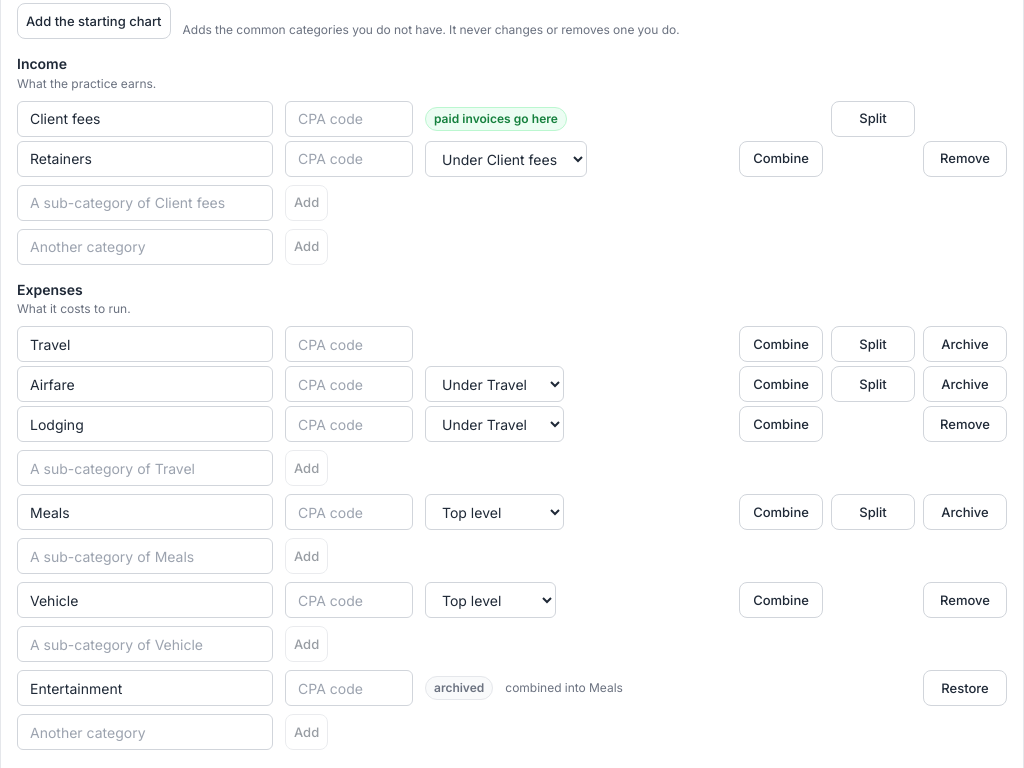
Scenario: categories in two levels › a split from a sub-category makes the new one beside it, or uses one you have
The width and height of the screenshot is (1024, 768).
(page scrolled)
Click the button with aria-label "Split Airfare".
click(873, 384)  # box [831,366,915,402]
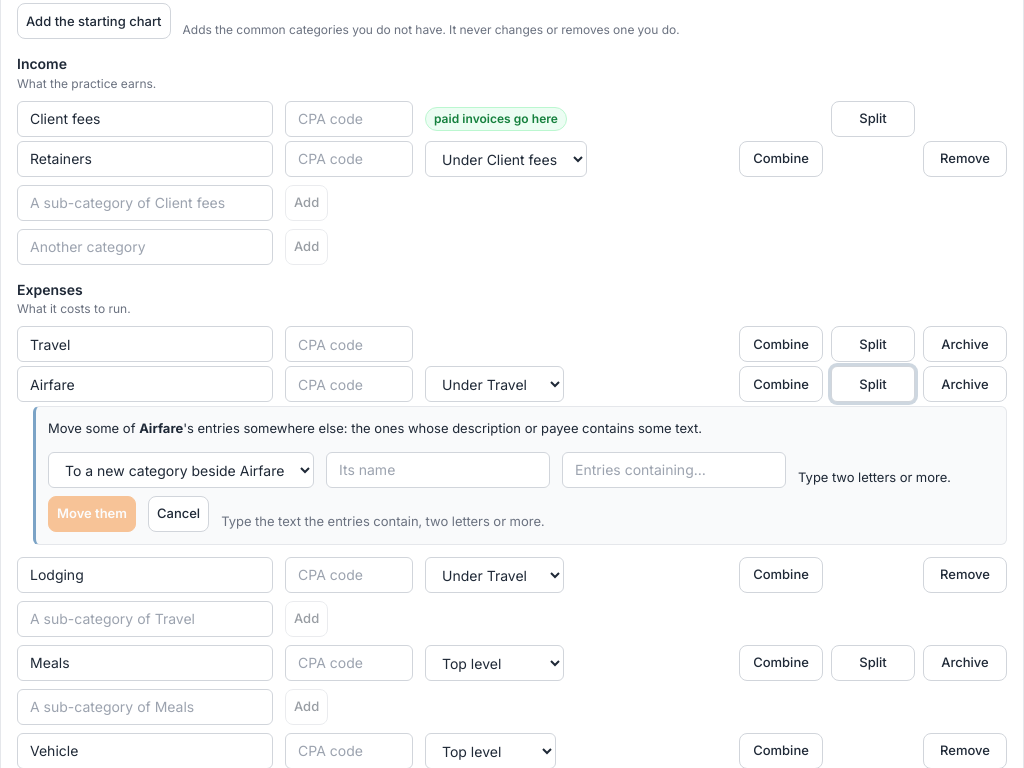
Select "To a category you already have" in the dropdown named "Where the entries go" at (181, 470), box [48,452,314,488]
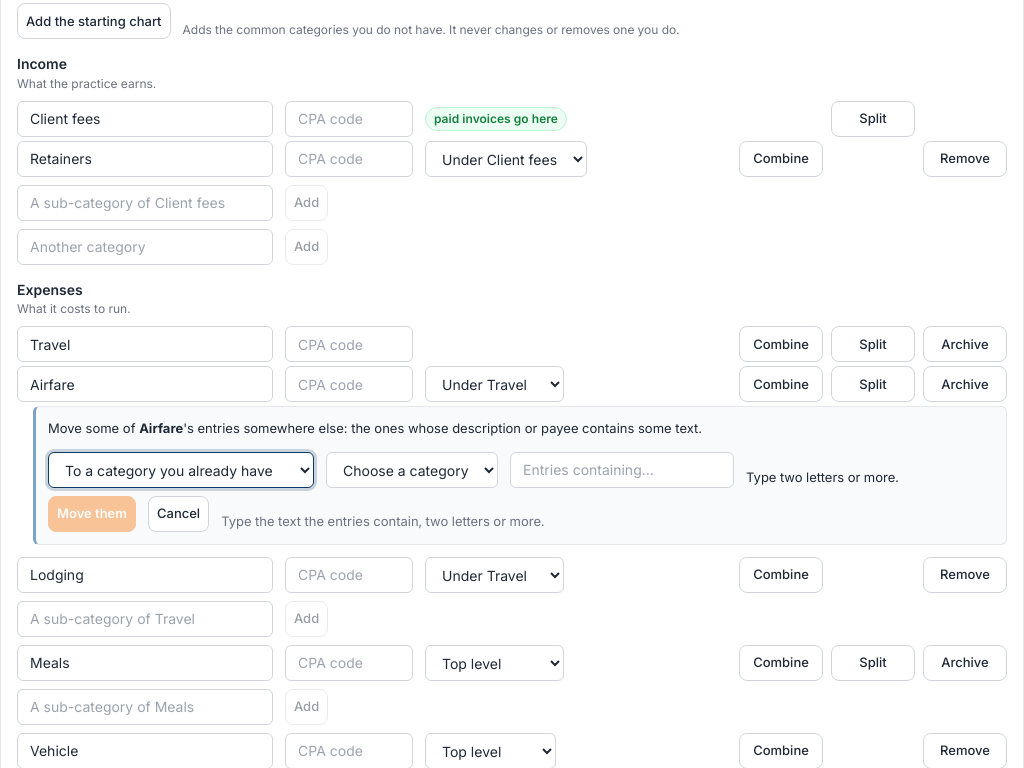
Type "hotel" into the field labelled "Entries containing".
click(622, 470); type("hotel")  # box [510,452,734,488]
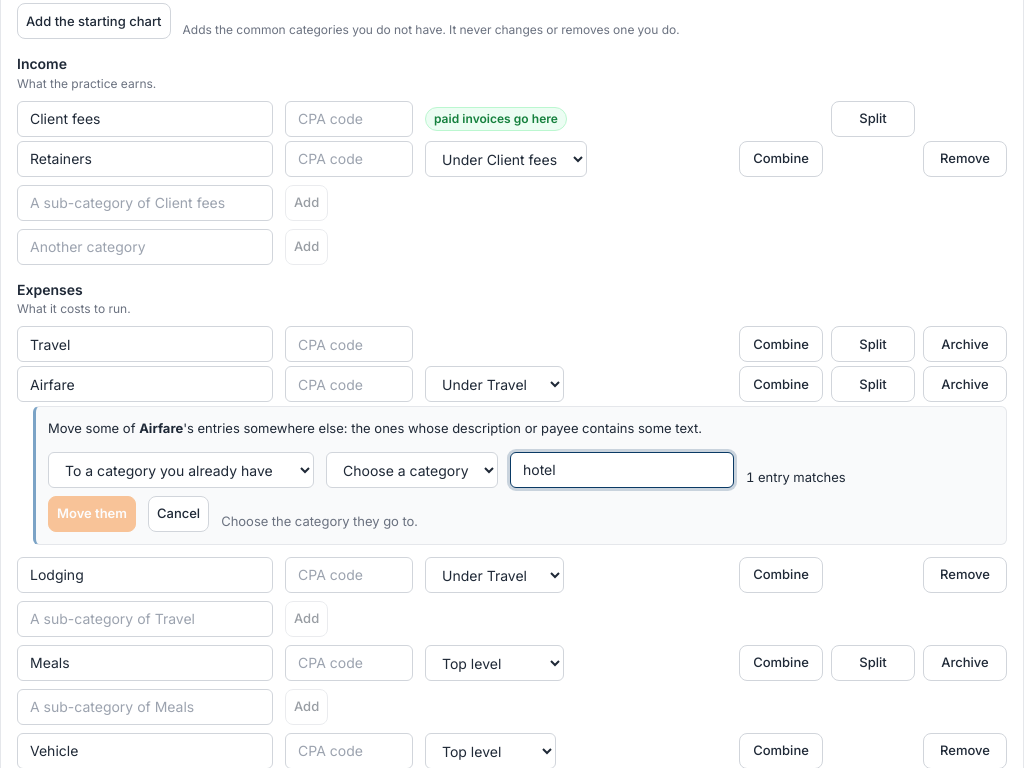
Result: the message named "Entries that match" reads "1 entry matches" at [746,469,846,485]
Result: the text named "What Move is waiting on" reads "Choose the category they go to." at [221,513,418,529]
Select "Lodging" in the dropdown named "The category they go to" at (412, 470), box [326,452,498,488]
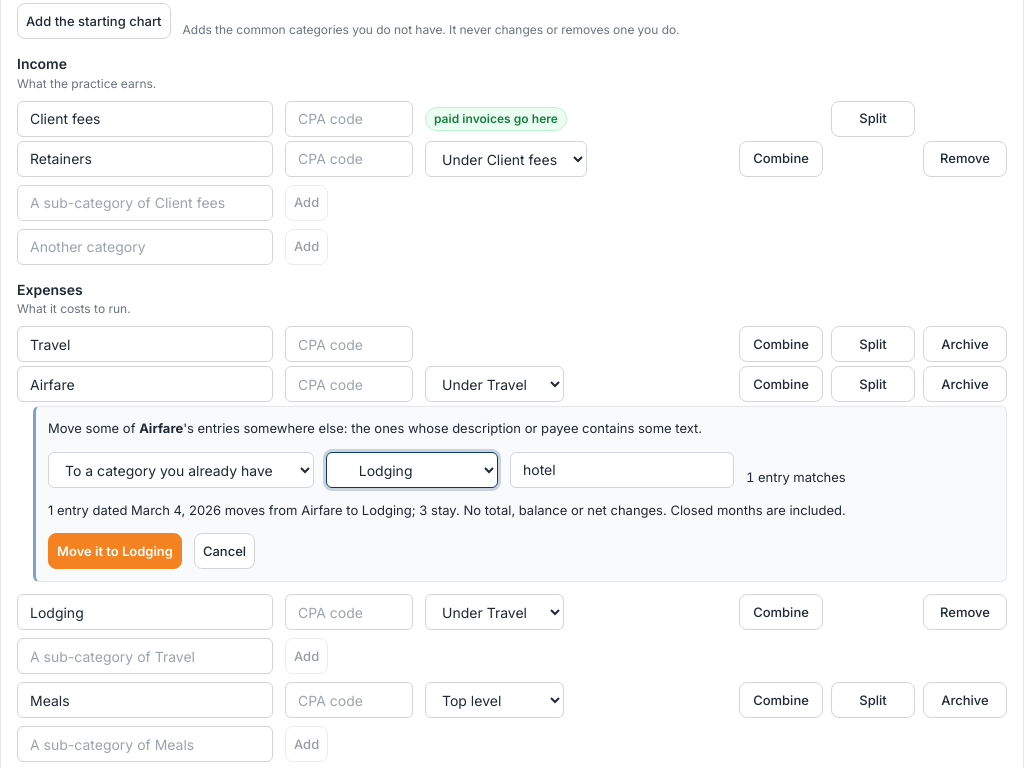
Result: the message named "What would move" shows "1 entry dated March 4, 2026 moves from Airfare to Lodging; 3 stay." at [48,502,846,518]
Result: the button "Move it to Lodging" is enabled at [48,533,182,569]
